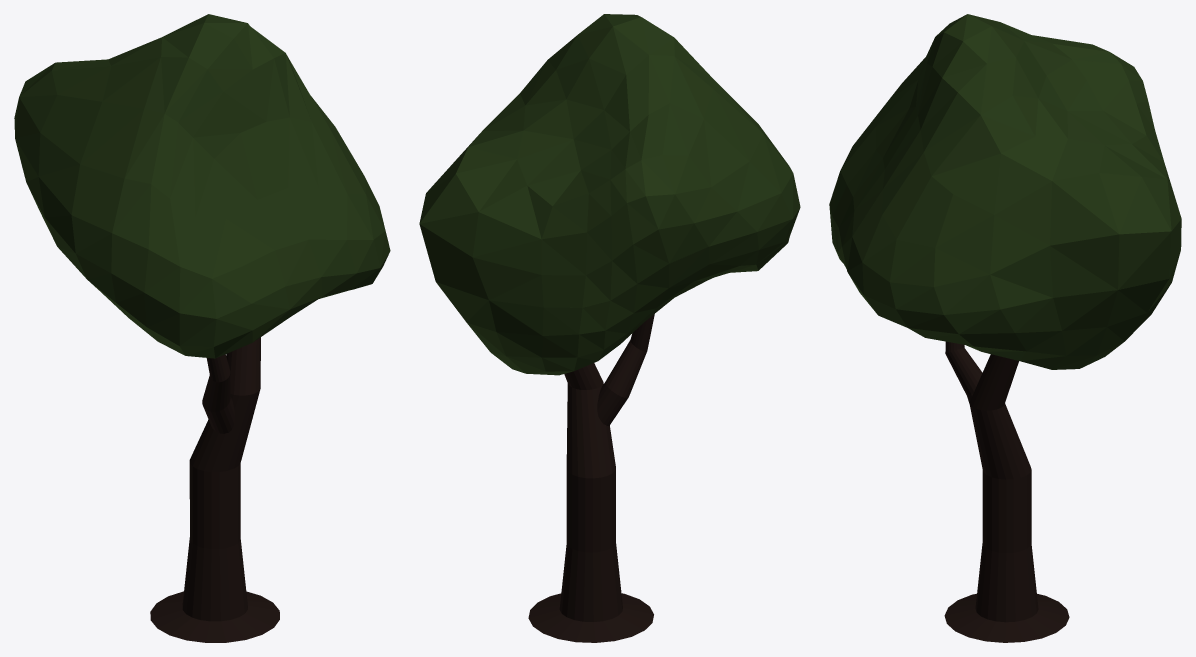
Rendered from tree2.FBX.
3 renders of one model, left to right at view 1: azimuth 30°, elevation 25°; view 2: azimuth 150°, elevation 25°; view 3: azimuth 270°, elevation 25°, orthographic. The views are drawn at different scales.
Parts seen in each view (by area): view 1: Object047; view 2: Object047; view 3: Object047.
Part boxes in pixels (x1,y1,x2,y2): Object047: (14, 14, 390, 642); Object047: (419, 14, 800, 642); Object047: (829, 14, 1181, 642).
Bounding box in the file's own units: 9.45 × 18.05 × 9.8.
